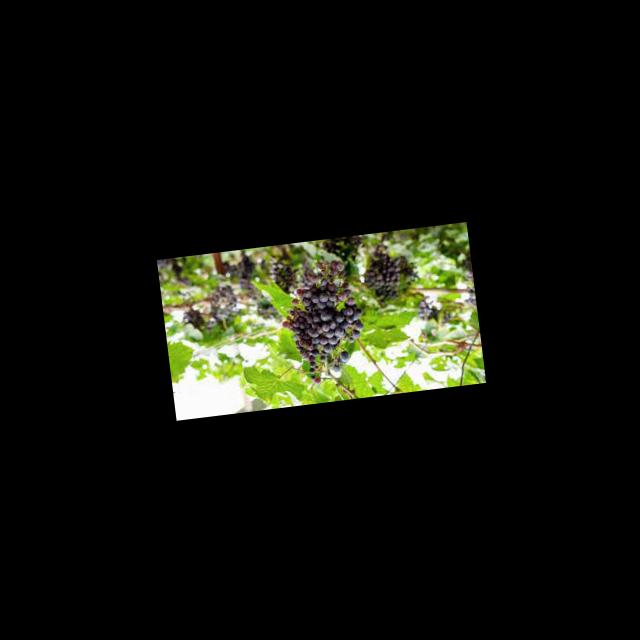grape: (272, 253, 370, 388)
